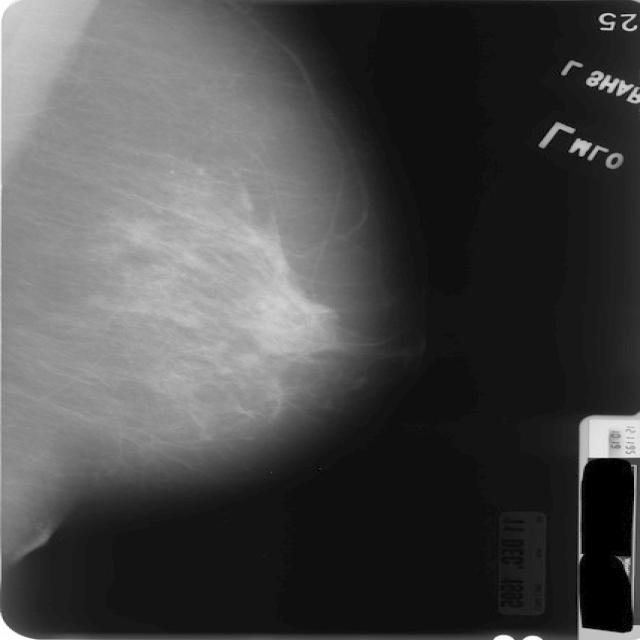tumour: (115, 218, 163, 250)
